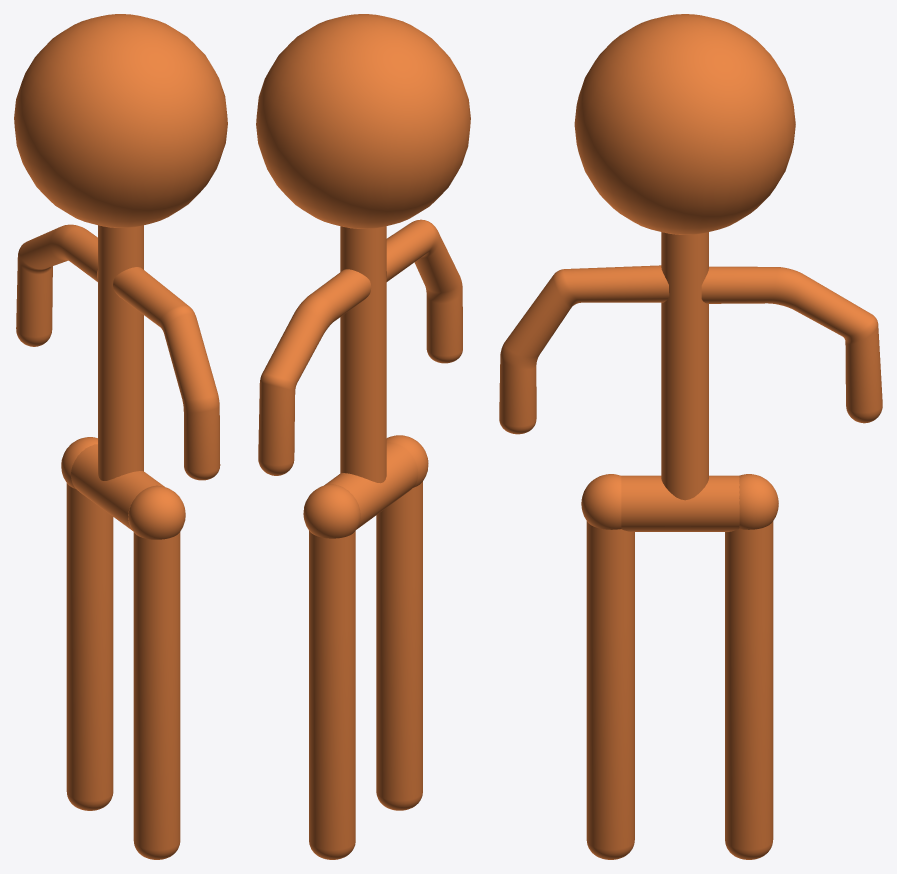
File: character 1.fbx
3 renders of one model, left to right at view 1: azimuth 30°, elevation 25°; view 2: azimuth 150°, elevation 25°; view 3: azimuth 270°, elevation 25°, orthographic. The views are drawn at different scales.
Parts seen in each view (by area): view 1: Cylinder; view 2: Cylinder; view 3: Cylinder.
Boxes of the visible parts, x1,y1,x2,y2 form: Cylinder: (14,14,227,859); Cylinder: (256,14,470,859); Cylinder: (499,14,882,859).
Bounding box in the file's own units: 31.44 × 130 × 54.49.
